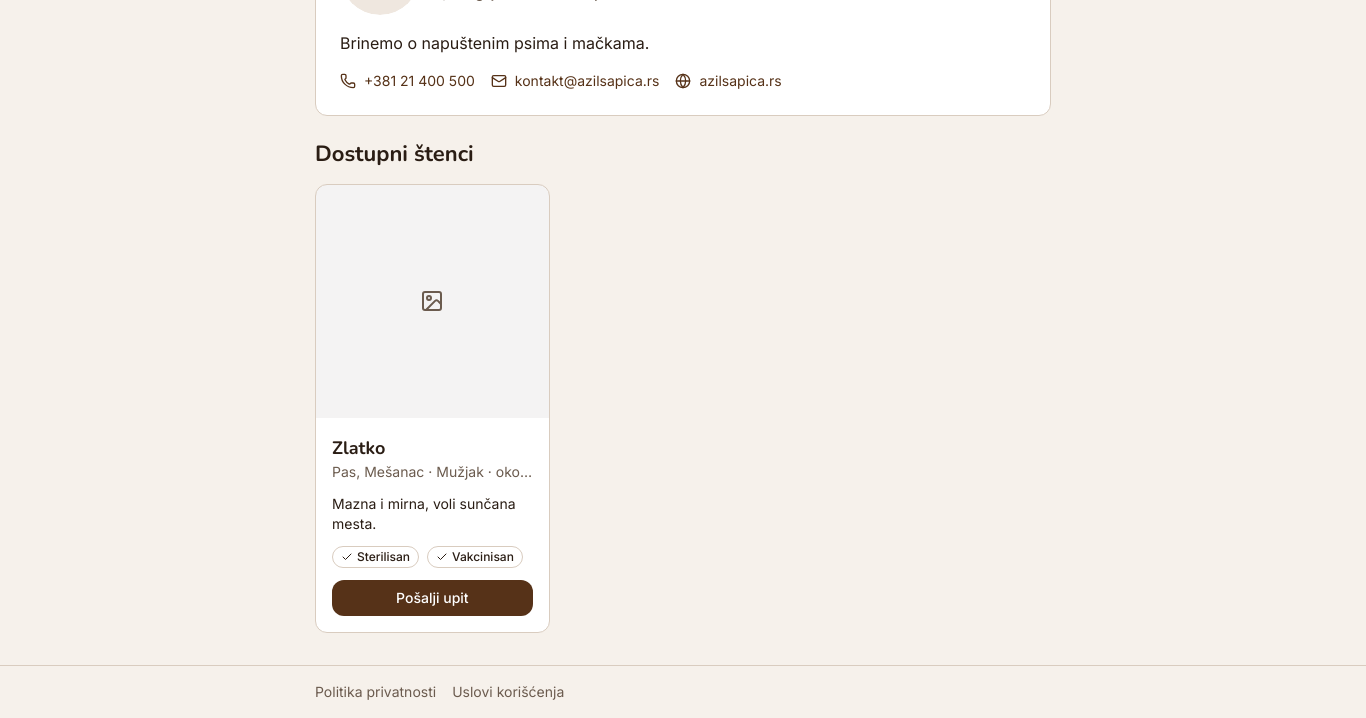
Test: S23 — request Dialog › 429 → the rate-limit message; 404 → no longer available
The width and height of the screenshot is (1366, 718).
(page scrolled)
Click the button "Pošalji upit".
click(432, 598)  # box top-left (332, 580), bottom-right (533, 616)
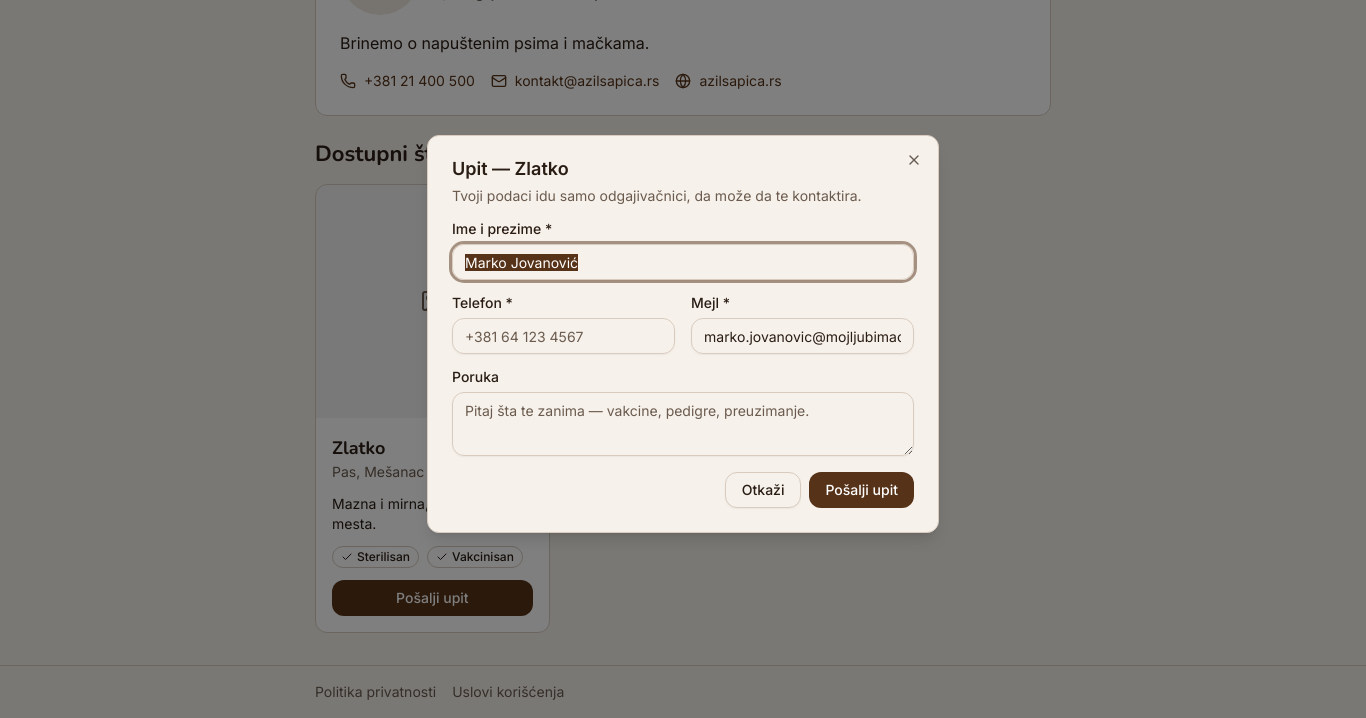
Type "+381641234567" into the field labelled "Telefon *".
click(564, 336); type("+381641234567")  # box top-left (452, 318), bottom-right (675, 354)
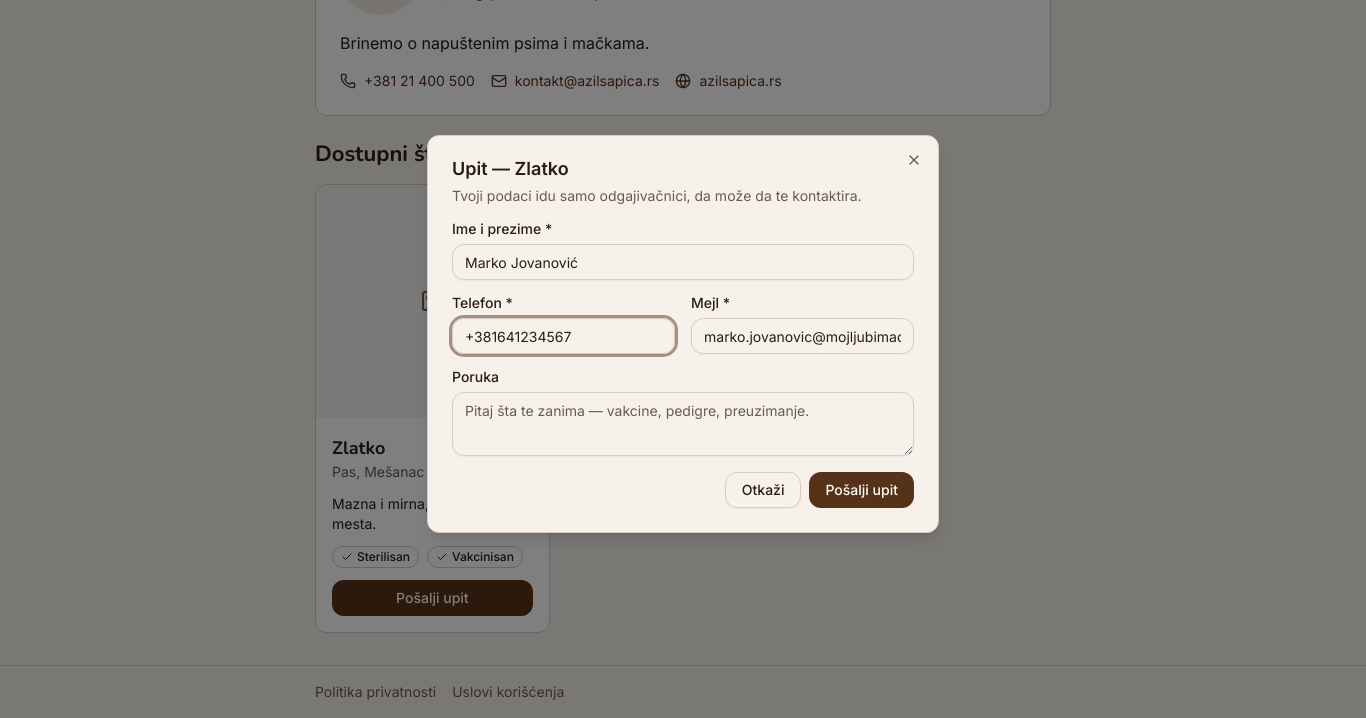
Click the button "Pošalji upit".
click(862, 490)  # box top-left (810, 472), bottom-right (914, 508)
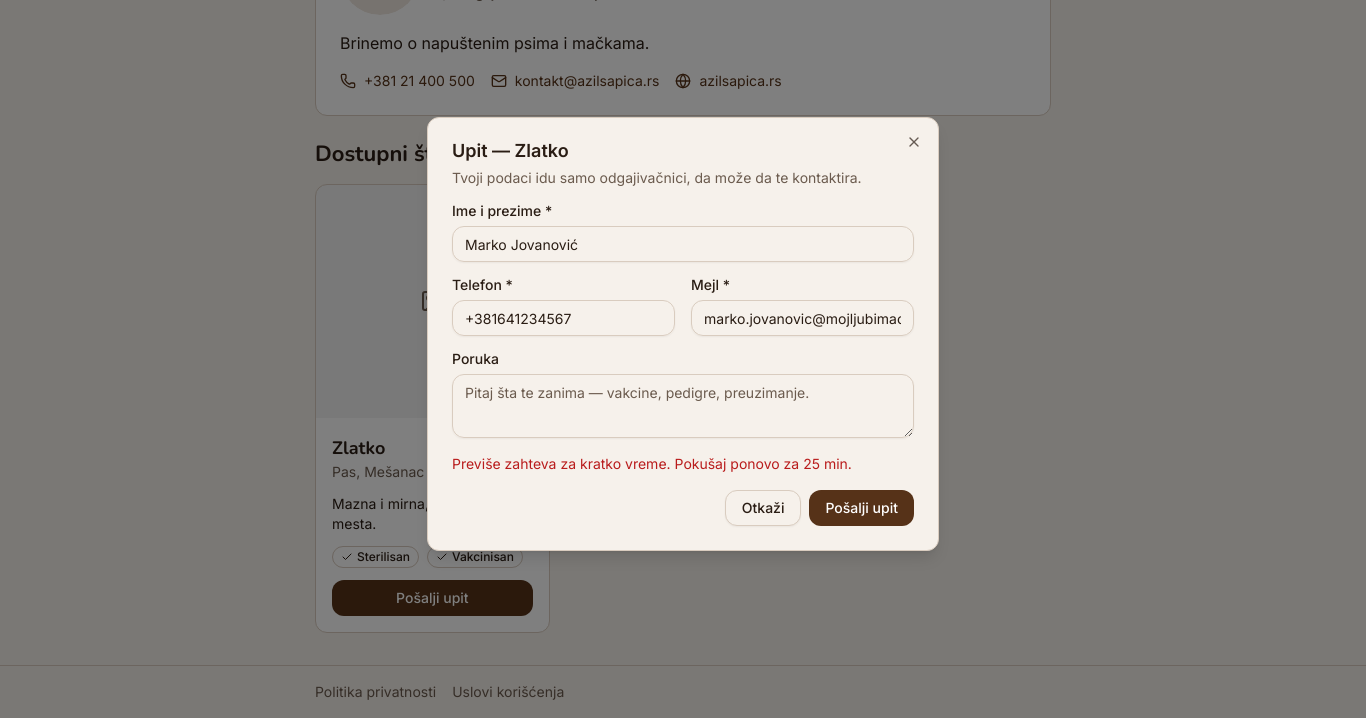
Expected: the text "Previše zahteva za kratko vreme. Pokušaj ponovo za 25 min." is shown, top-left (452, 454), bottom-right (914, 474)
Click the button "Pošalji upit".
click(862, 508)  # box top-left (810, 490), bottom-right (914, 526)
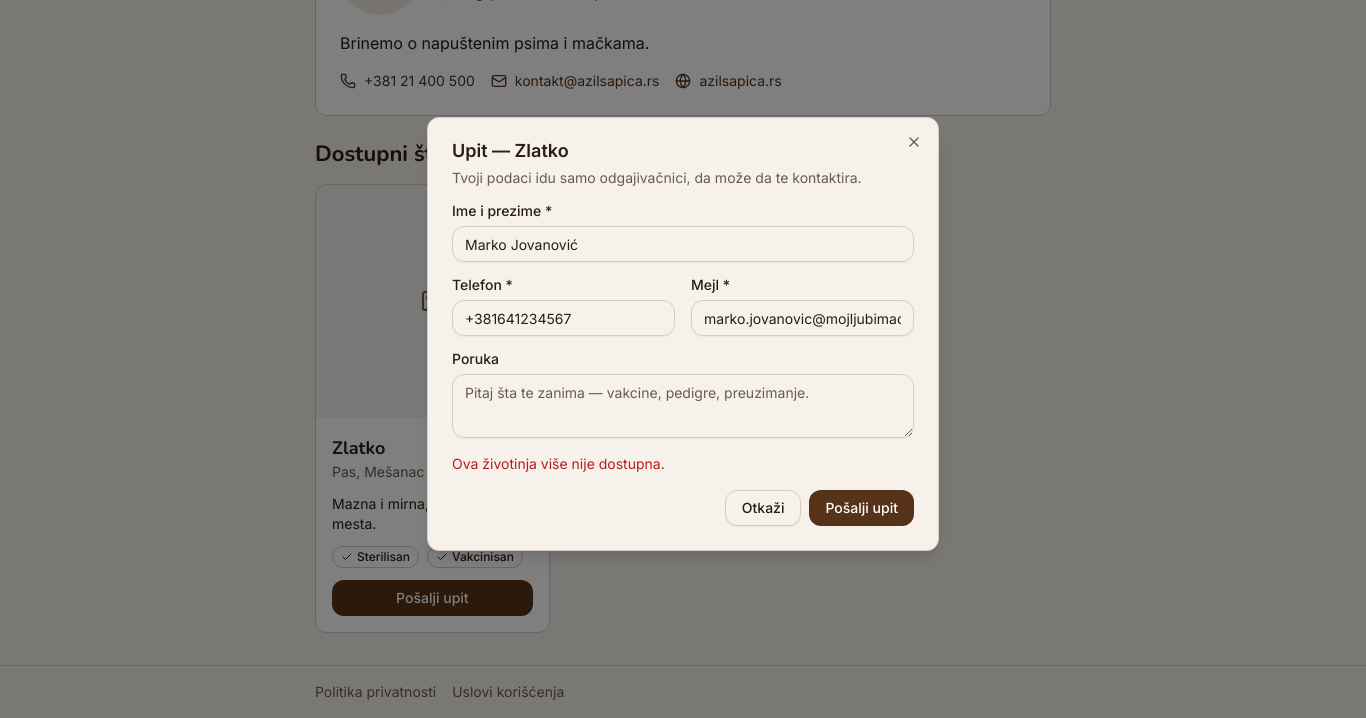
Expected: the text "Ova životinja više nije dostupna." is shown, top-left (452, 455), bottom-right (665, 472)
